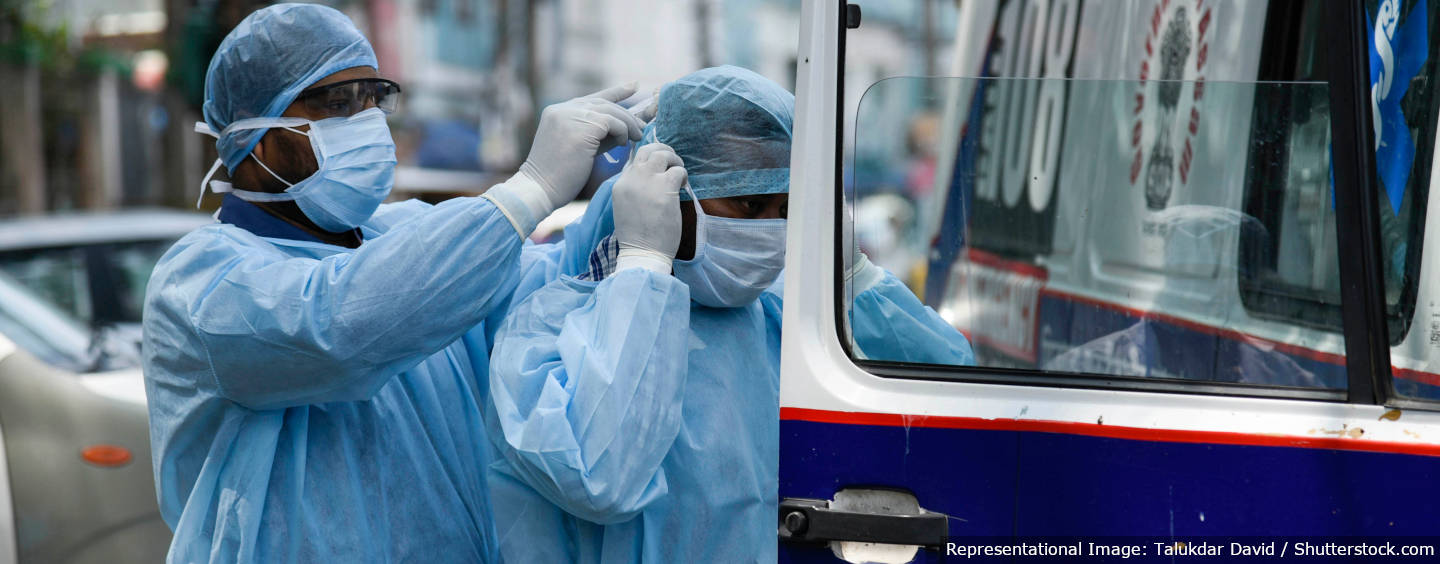Coverall: (141, 1, 506, 561), (489, 62, 779, 561)
Gloves: (491, 80, 653, 240), (614, 139, 690, 272)
Goggles: (303, 77, 408, 116)
with_mask: (287, 89, 399, 235), (677, 195, 787, 309)
